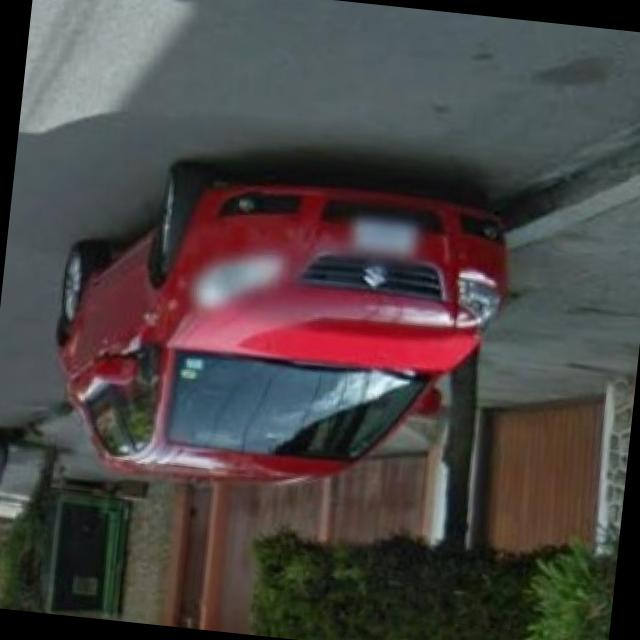car: (35, 110, 522, 500)
